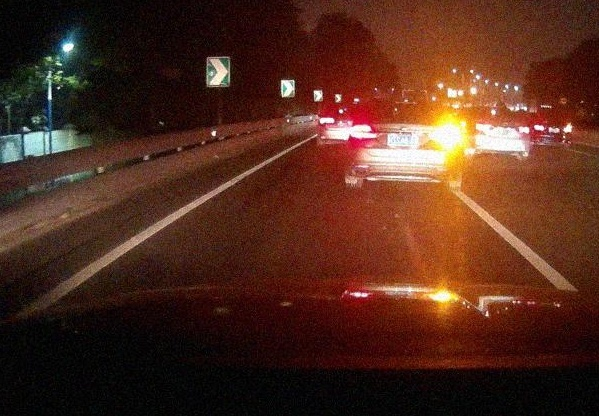L_light: (349, 123, 380, 139)
R_light: (429, 125, 456, 141)
T_light: (400, 104, 418, 108)
night-right: (345, 100, 459, 190)
